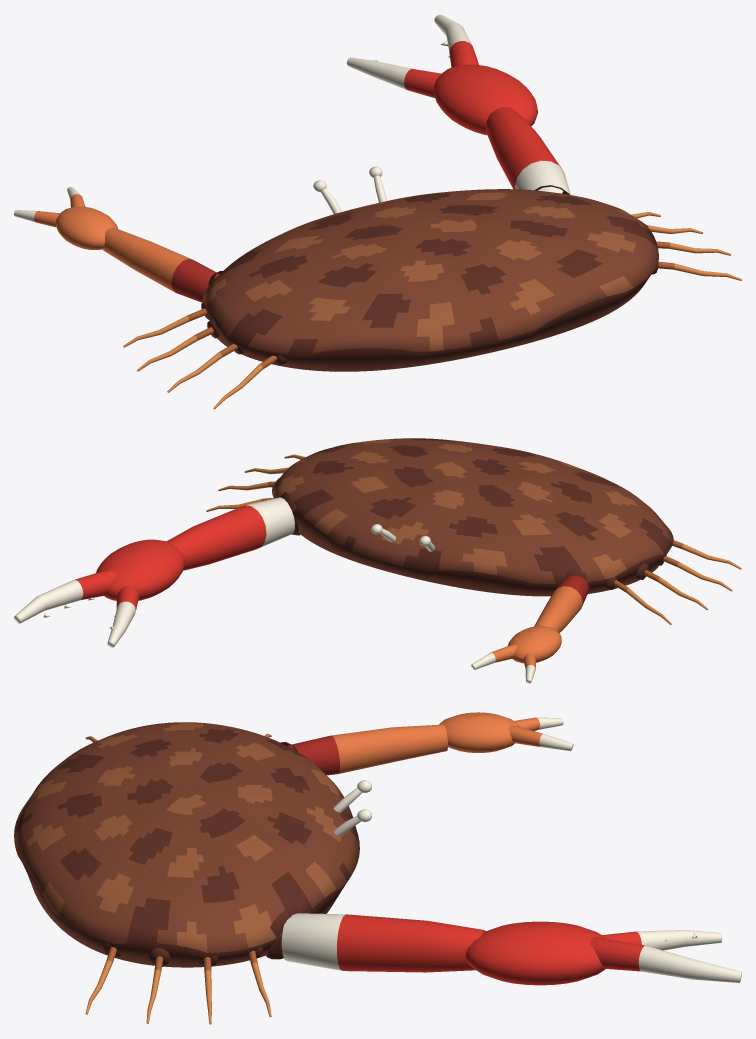
The picture shows the model from 3 angles, top to bottom: view 1: azimuth 30°, elevation 25°; view 2: azimuth 150°, elevation 25°; view 3: azimuth 270°, elevation 25°; orthographic projection. The views are drawn at different scales.
Parts seen in each view (by area): view 1: carapace, dominant_cheliped, smaller_cheliped, walking_leg, eye_stalk; view 2: carapace, dominant_cheliped, smaller_cheliped, walking_leg; view 3: carapace, dominant_cheliped, smaller_cheliped, walking_leg, eye_stalk.
Part boxes in pixels (x1,y1,x2,y2): carapace: (201, 185, 658, 371); dominant_cheliped: (346, 14, 570, 194); smaller_cheliped: (14, 186, 219, 302); walking_leg: (123, 212, 741, 409); eye_stalk: (313, 166, 386, 213); carapace: (272, 438, 673, 596); dominant_cheliped: (14, 497, 294, 647); smaller_cheliped: (471, 575, 588, 683); walking_leg: (206, 454, 741, 624); carapace: (14, 722, 359, 967); dominant_cheliped: (281, 913, 741, 985); smaller_cheliped: (287, 712, 573, 775); walking_leg: (85, 733, 271, 1024); eye_stalk: (333, 780, 371, 836).
Size of the model in its own units: 4.18 by 0.562 by 4.35.
